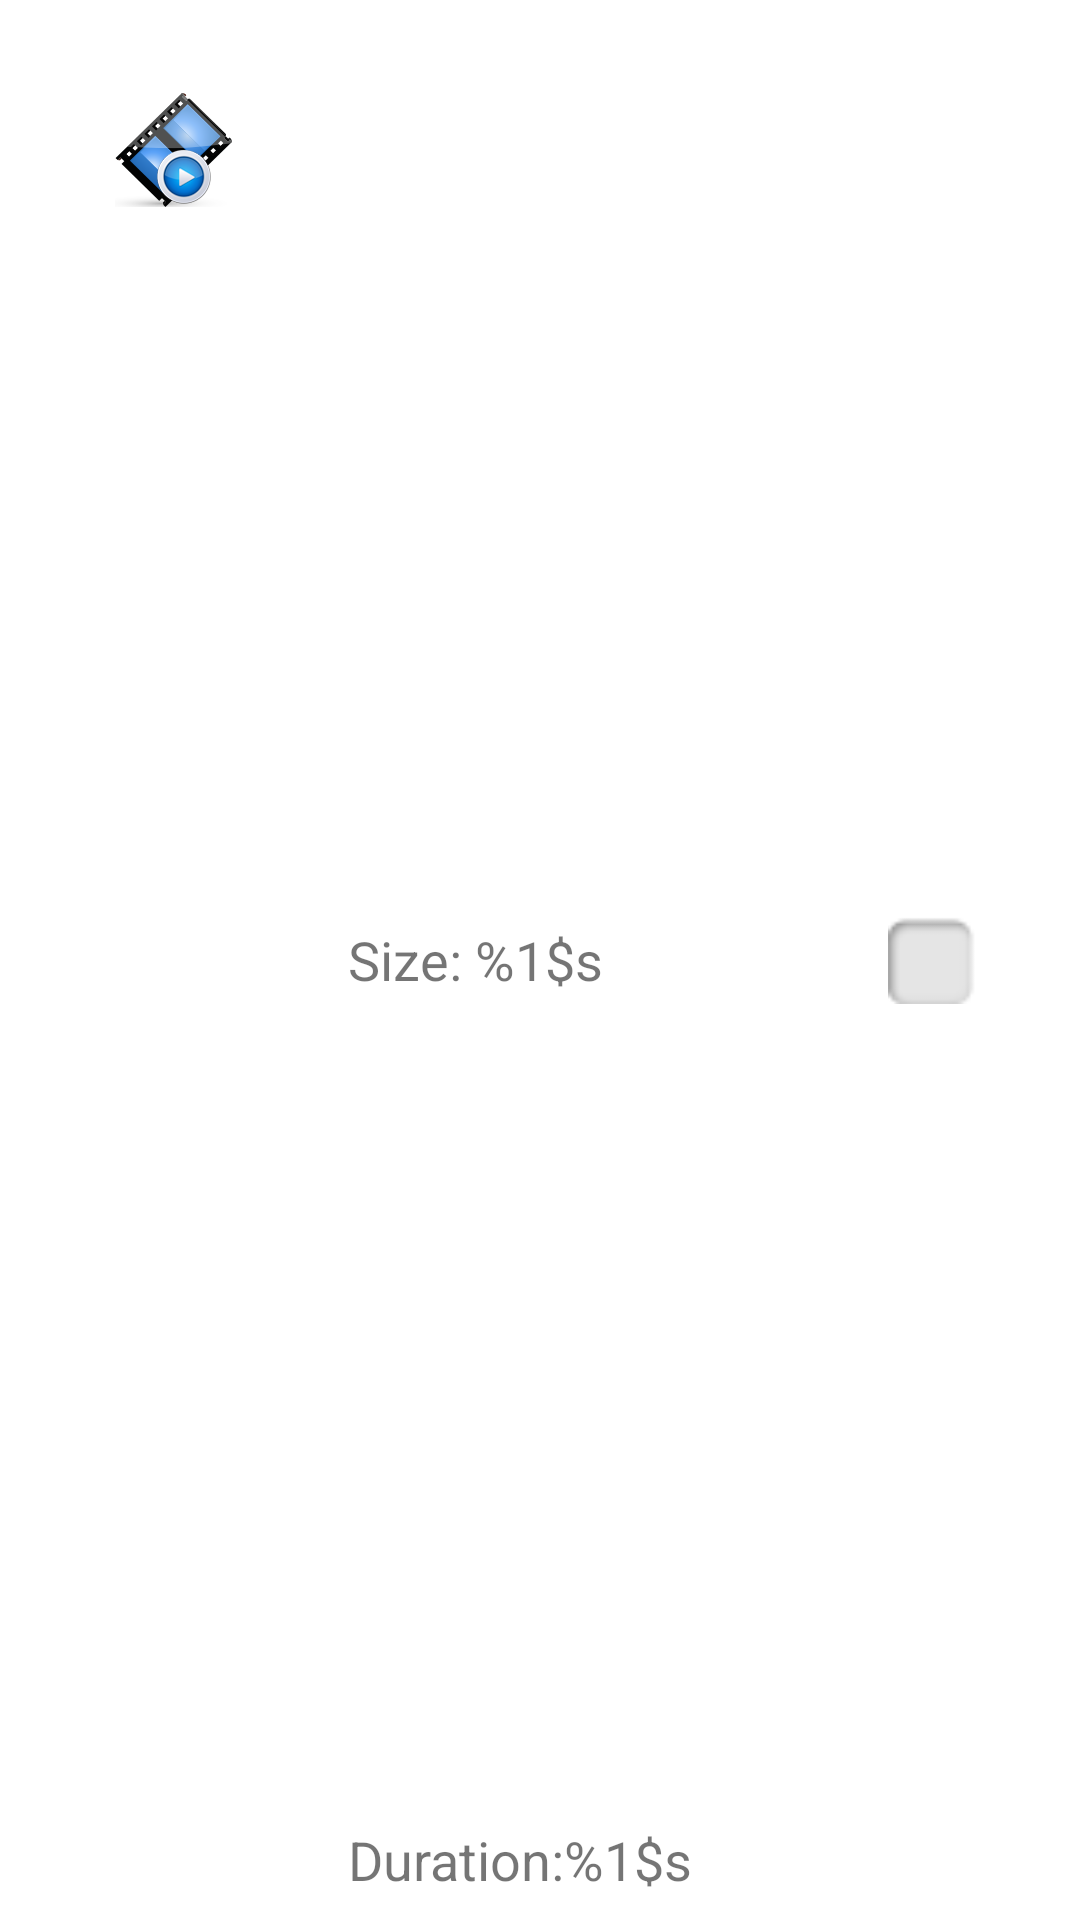

Named icons in this screenshot (1080w x 1920h) and their centers, (x,y):
record defalut: (173,150)
